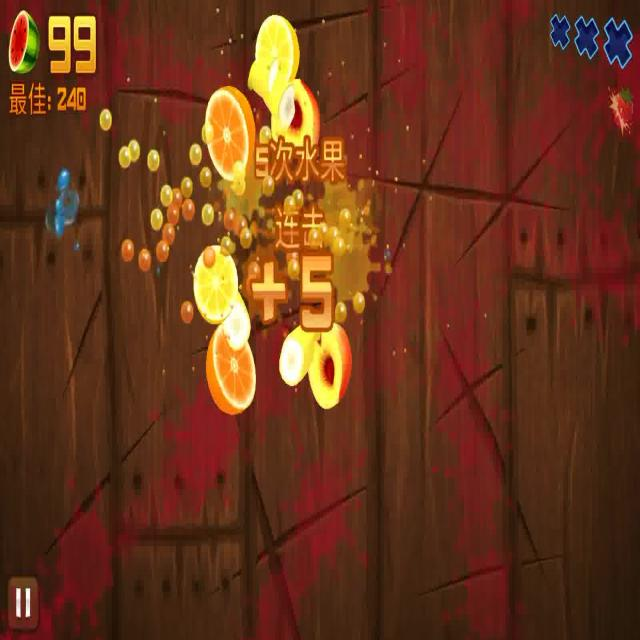fruit: (201, 83, 255, 183), (198, 328, 258, 412), (192, 237, 238, 321), (251, 15, 301, 82), (314, 331, 354, 413), (277, 86, 321, 153), (282, 313, 310, 382)
